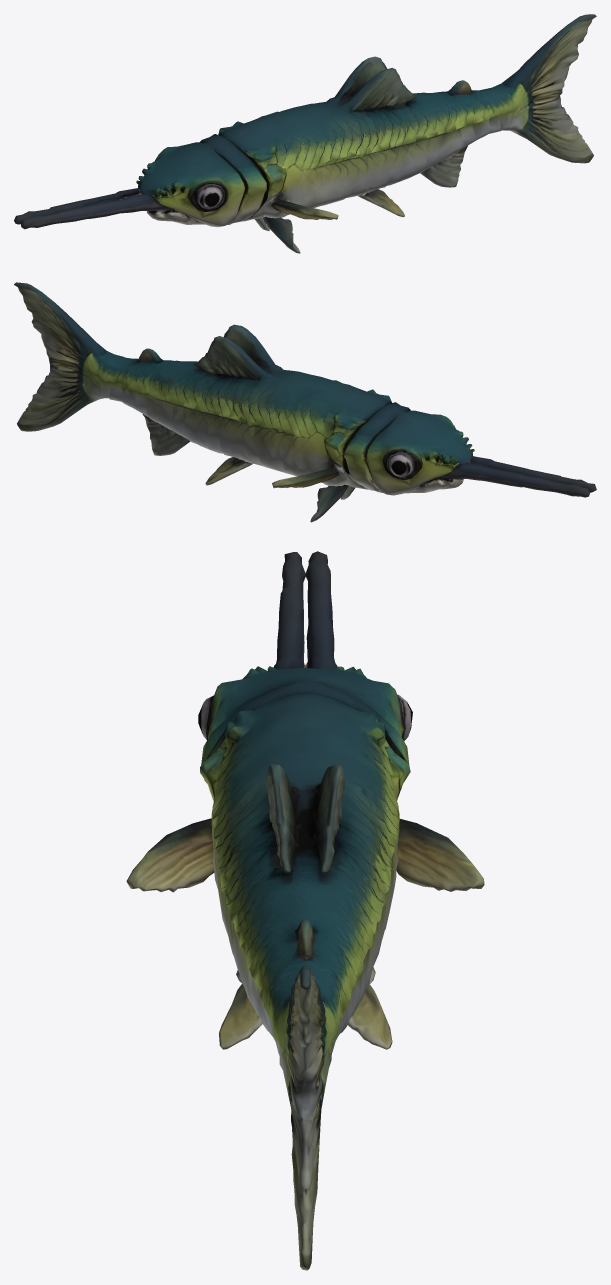
The model's file is fish-sargan.glb.
3 renders of one model, top to bottom at view 1: azimuth 30°, elevation 25°; view 2: azimuth 150°, elevation 25°; view 3: azimuth 270°, elevation 25°, orthographic. The views are drawn at different scales.
Parts seen in each view (by area): view 1: tripo_node_1348d458-f5a4-49f8-b8fb-285e91c94c90; view 2: tripo_node_1348d458-f5a4-49f8-b8fb-285e91c94c90; view 3: tripo_node_1348d458-f5a4-49f8-b8fb-285e91c94c90.
Boxes of the visible parts, x1=… form: tripo_node_1348d458-f5a4-49f8-b8fb-285e91c94c90: x1=14, y1=14, x2=596, y2=253; tripo_node_1348d458-f5a4-49f8-b8fb-285e91c94c90: x1=14, y1=282, x2=596, y2=522; tripo_node_1348d458-f5a4-49f8-b8fb-285e91c94c90: x1=126, y1=551, x2=484, y2=1270.
Size of the model in its own units: 1 by 0.2582 by 0.2677.
Materials: 1 (1 with a texture image).
